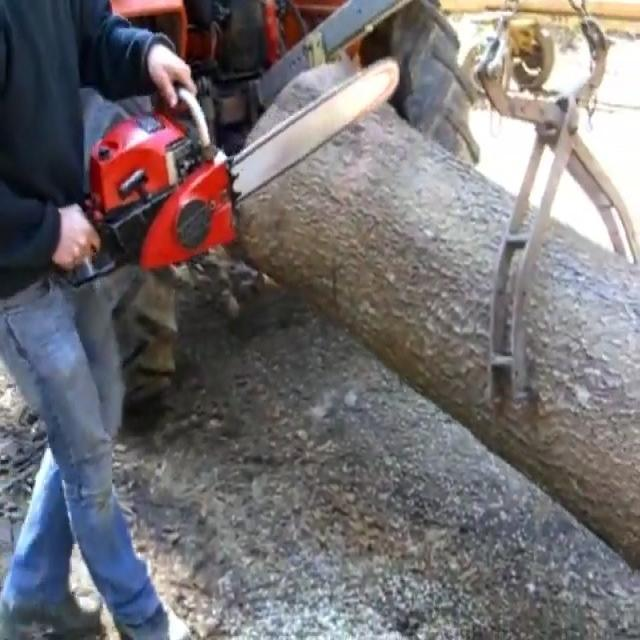Chainsaw: (50, 38, 419, 298)
